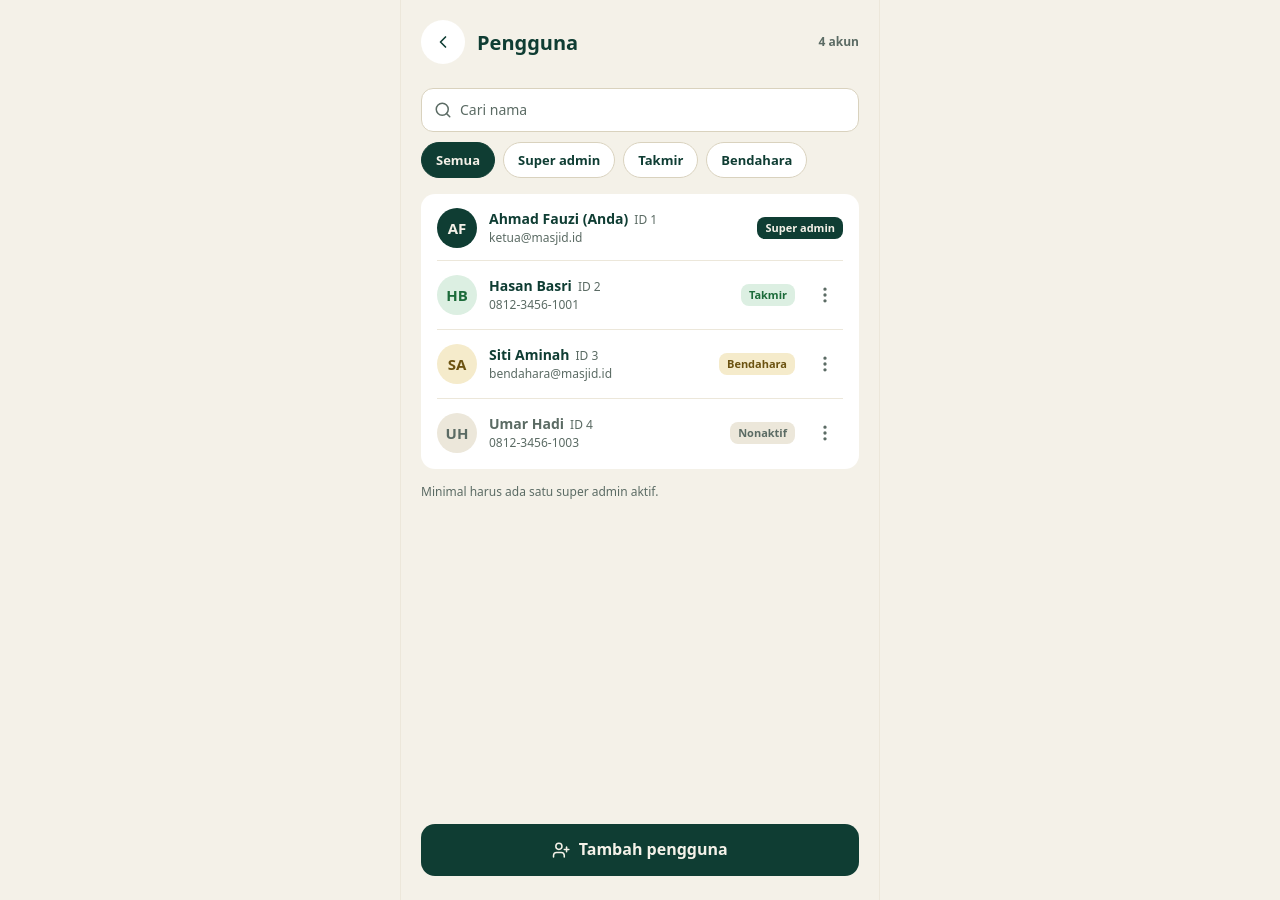
Scenario: UsersPage › deactivates after confirmation and offers to reactivate
Click the button named "Aksi untuk Siti Aminah" at [825, 364], box [807,342,843,386]
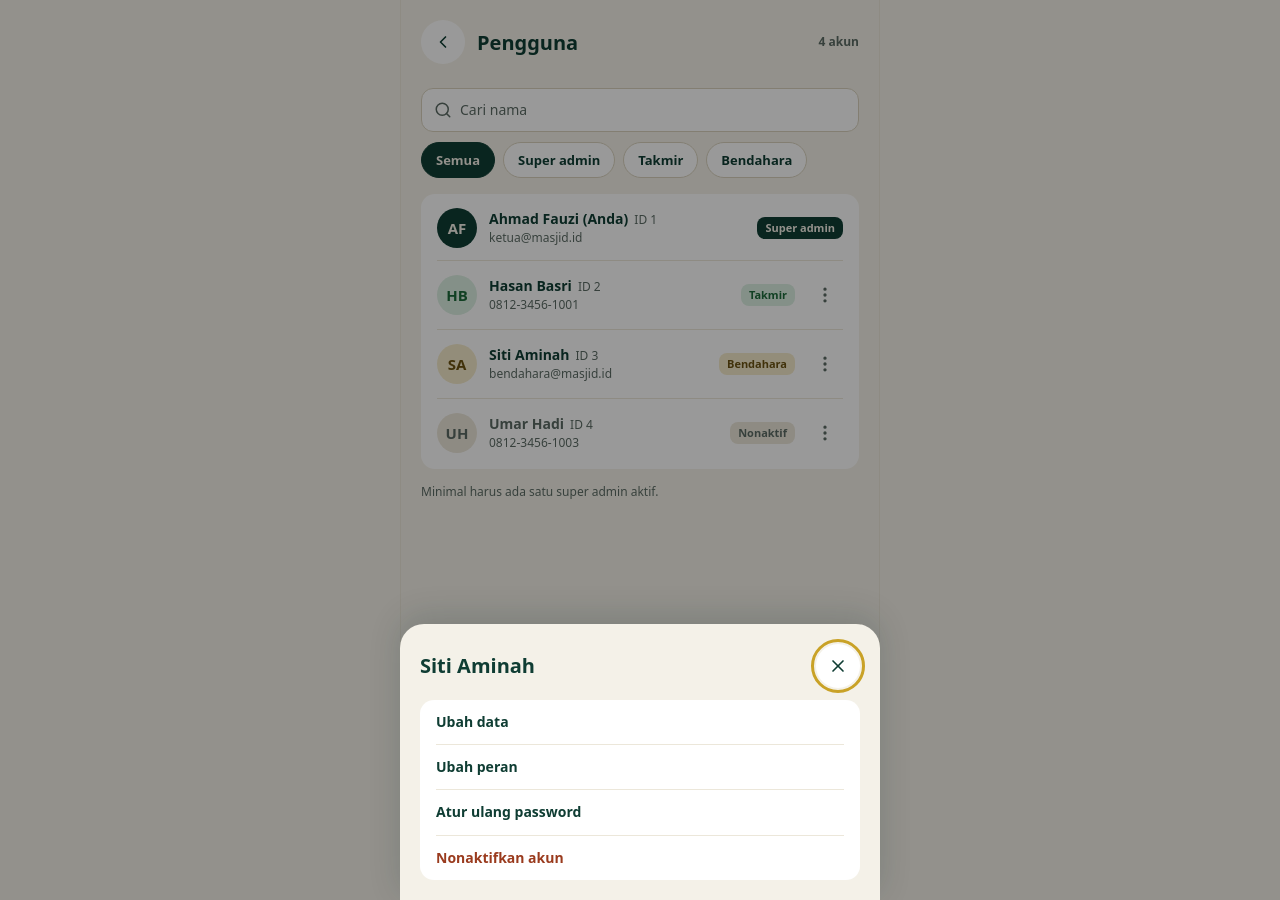
Click the button "Nonaktifkan akun" at [500, 857], box [436,836,844,880]
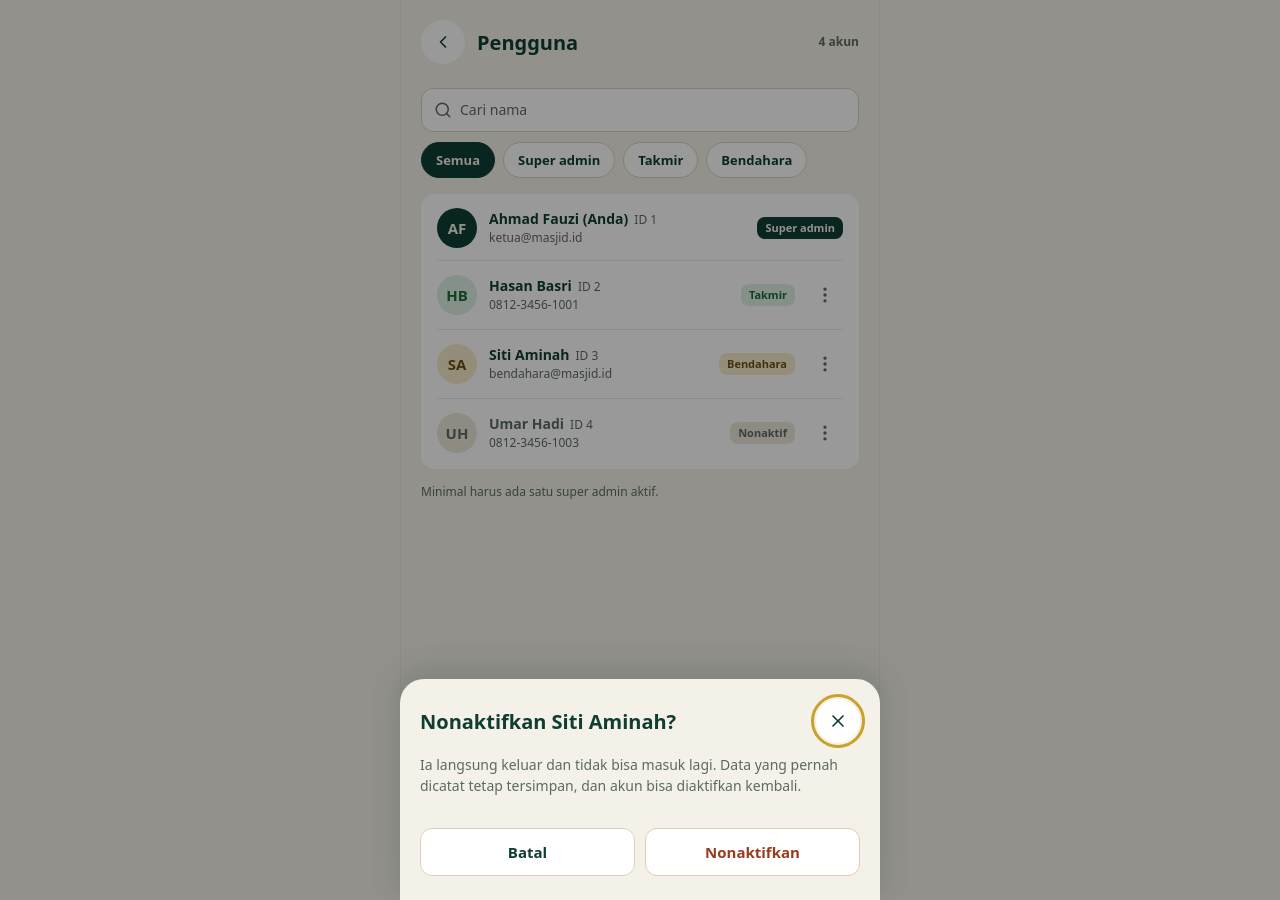
Click the button "Nonaktifkan" at [752, 852], box [645,828,860,876]
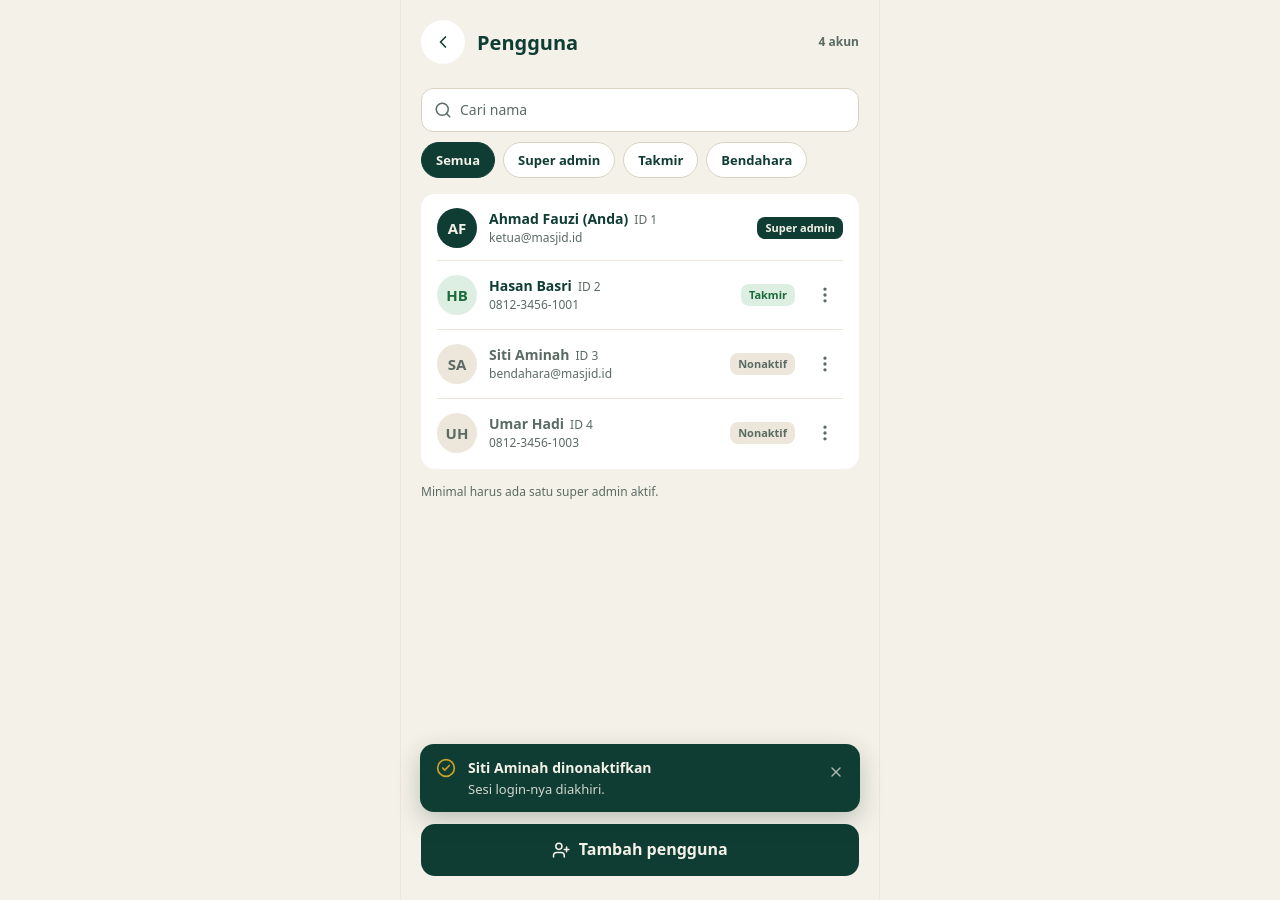
Expected: the text "Nonaktif" next to "bendahara@masjid.id" is shown, [738,356,787,371]
Click the button named "Aksi untuk Siti Aminah" at [825, 364], box [807,342,843,386]
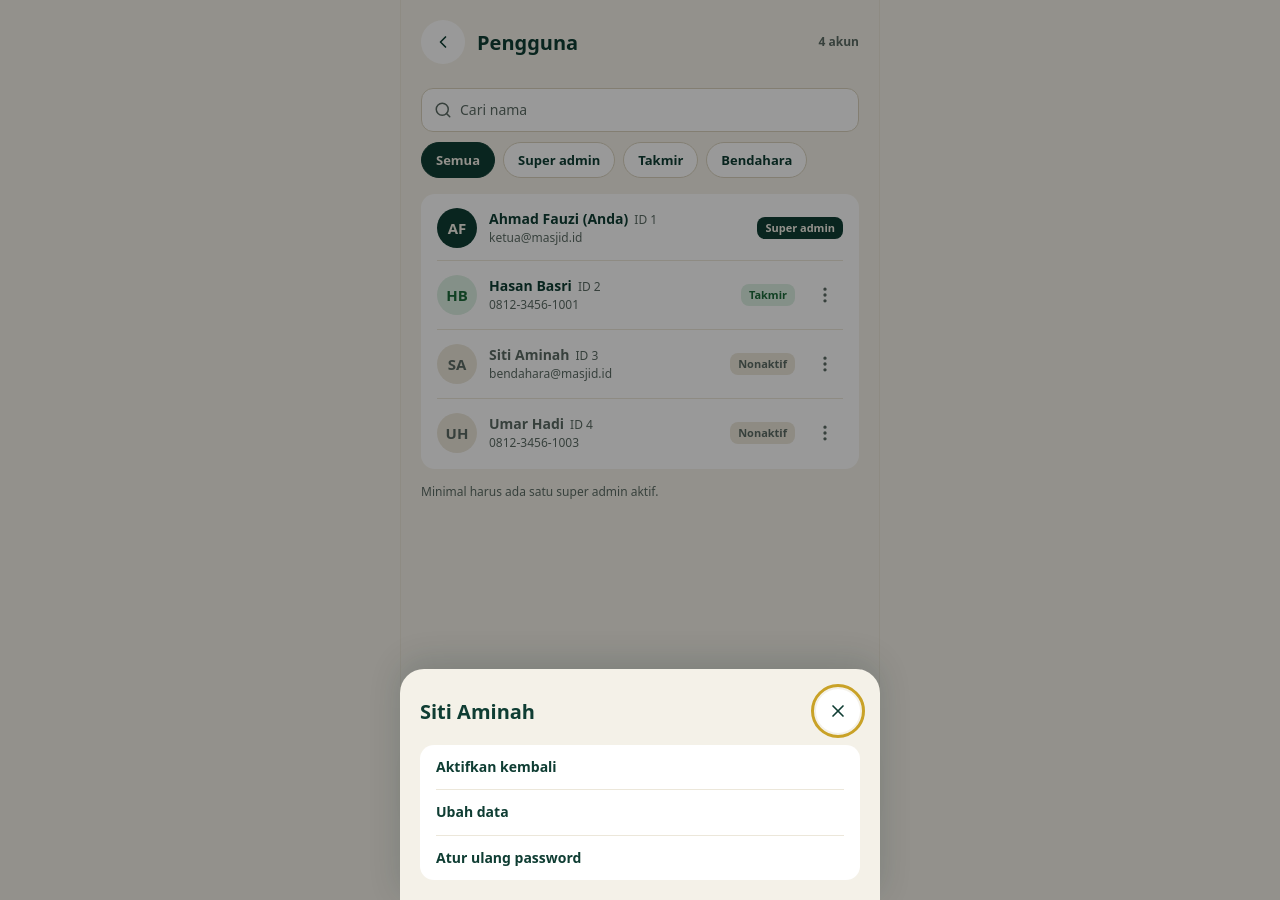
Expected: the button "Aktifkan kembali" is shown, [436,745,844,789]
